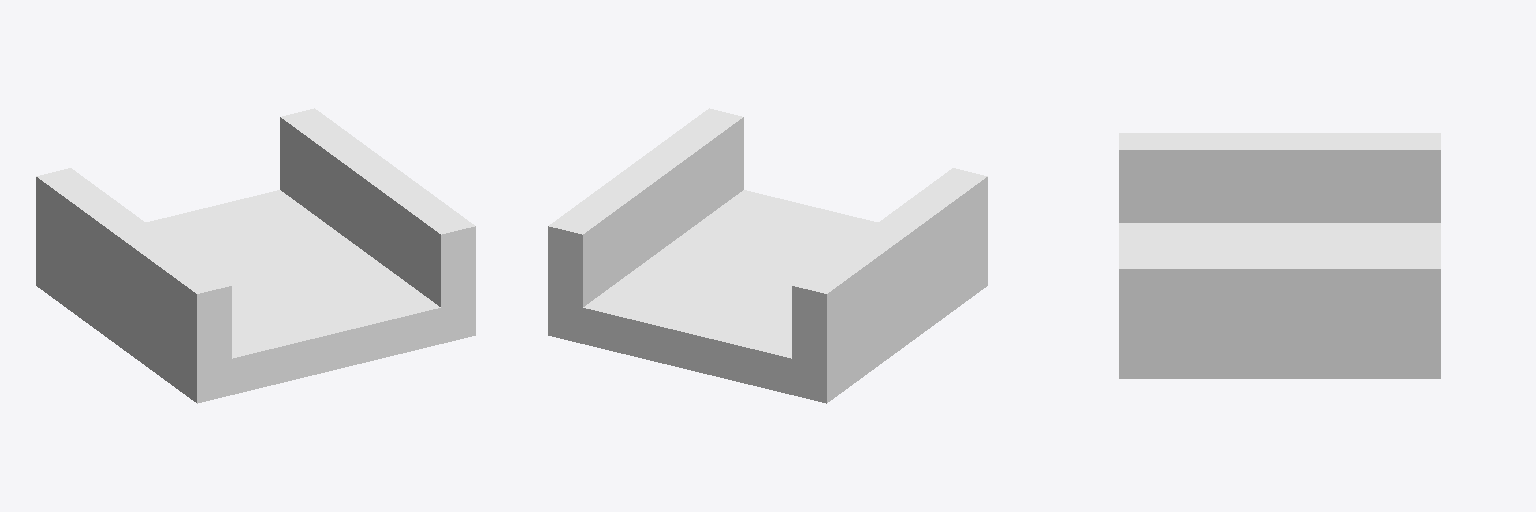
The model's file is runway.obj.
3 renders of one model, left to right at view 1: azimuth 30°, elevation 25°; view 2: azimuth 150°, elevation 25°; view 3: azimuth 270°, elevation 25°, orthographic.
Visible parts, largest first — view 1: object 1; view 2: object 1; view 3: object 1.
Boxes of the visible parts, x1,y1,x2,y2 form: object 1: [36, 108, 475, 403]; object 1: [548, 108, 987, 403]; object 1: [1119, 133, 1440, 378].
Bounding box in the file's own units: 0.8 × 0.3 × 0.8.